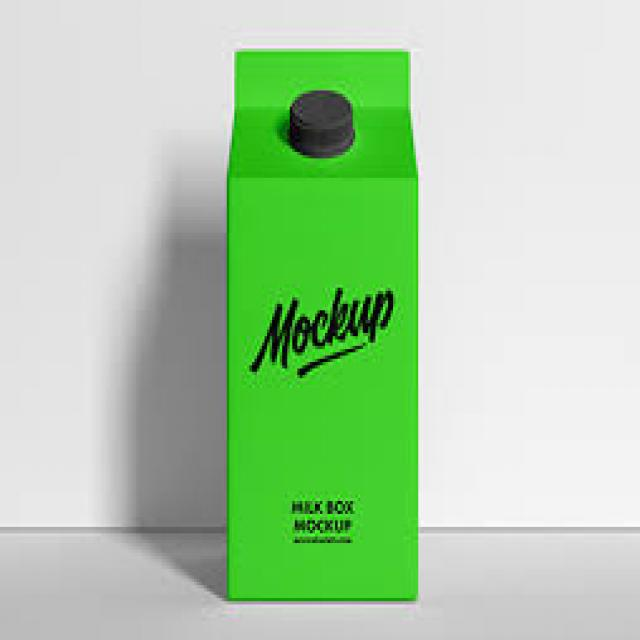non_white_jug: (219, 27, 426, 616)
